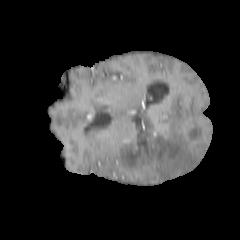glioma: (117, 108, 203, 179)
